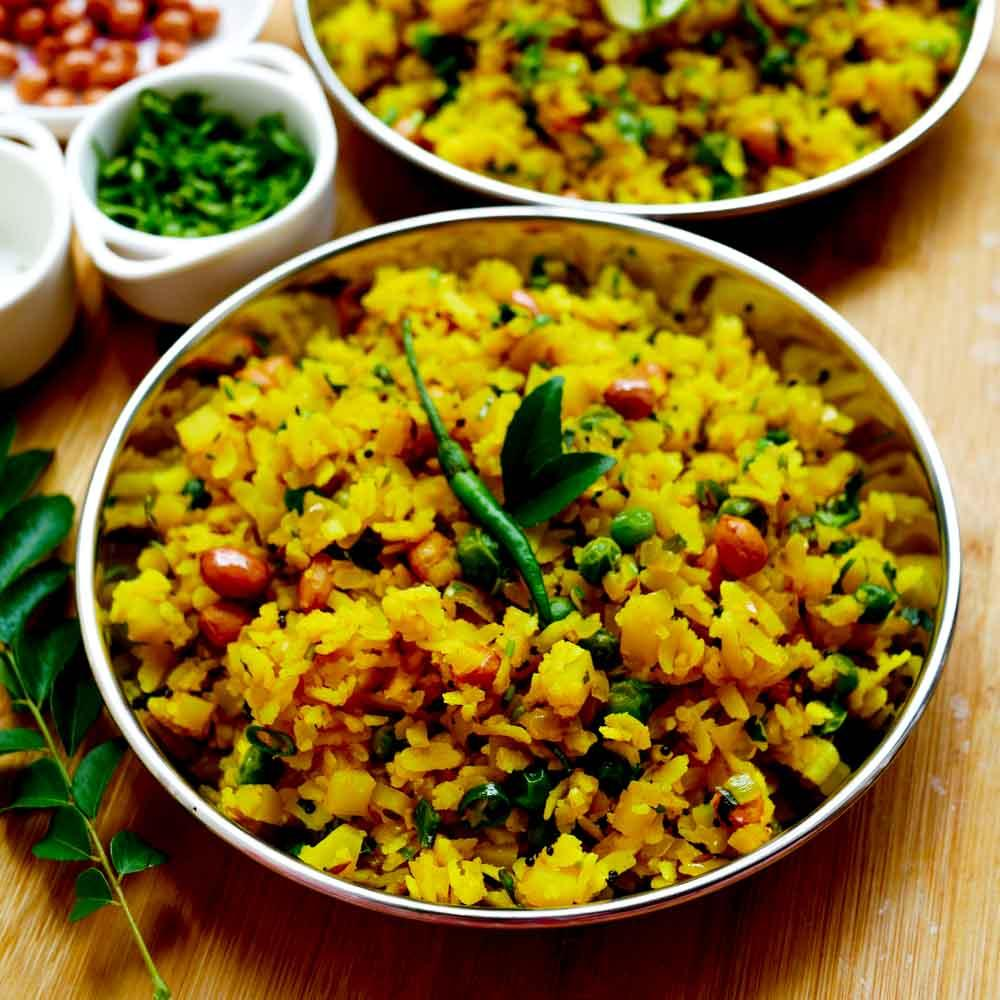poha: (113, 256, 964, 910), (293, 0, 994, 211)
